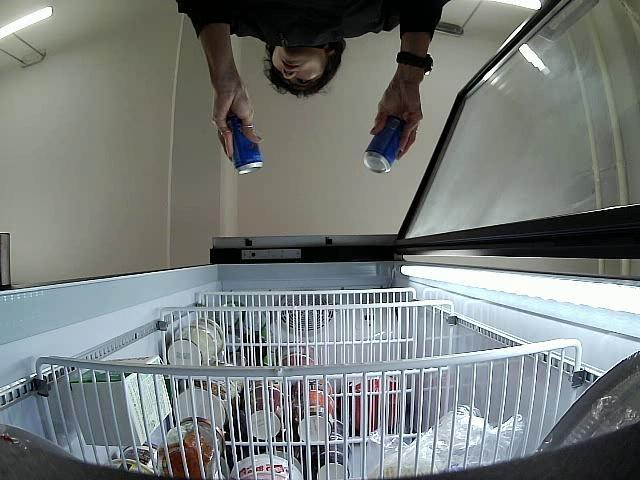15_letsbe: (364, 116, 405, 171), (225, 119, 264, 174)
